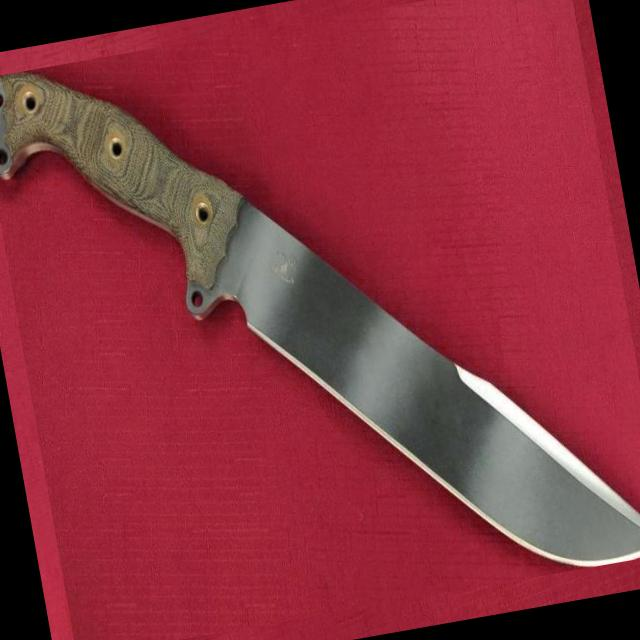Knife: (0, 73, 640, 566)
